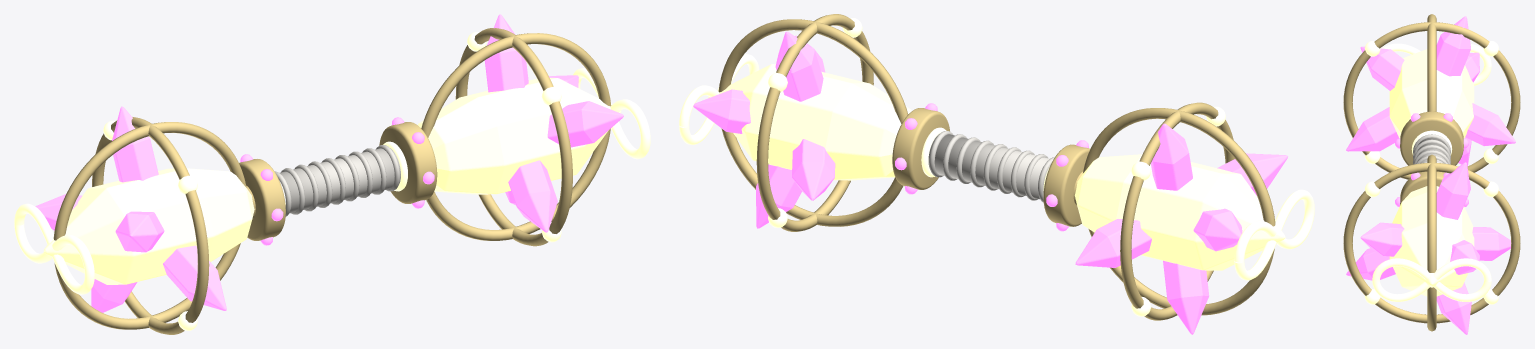
The model's file is dm_infinity25t.glb.
The picture shows the model from 3 angles, left to right: view 1: azimuth 30°, elevation 25°; view 2: azimuth 150°, elevation 25°; view 3: azimuth 270°, elevation 25°; orthographic projection. The views are drawn at different scales.
Visible parts, largest first — view 1: Infinity25t_Prism, Infinity25t_Prism.001, Infinity25t_Cage.003, Infinity25t_Cage.001, Infinity25t_Cage.004, Infinity25t_Cage, Infinity25t_Grip, Infinity25t_Cage.005, Infinity25t_InfinitySymbol, Infinity25t_Cage.002, Infinity25t_Collar.001, Infinity25t_Collar (+9 smaller); view 2: Infinity25t_Prism, Infinity25t_Prism.001, Infinity25t_Cage.004, Infinity25t_Cage.003, Infinity25t_Cage.001, Infinity25t_Cage, Infinity25t_Grip, Infinity25t_InfinitySymbol, Infinity25t_Collar.001, Infinity25t_Collar, Infinity25t_Cage.005, Infinity25t_Stone.002 (+10 smaller); view 3: Infinity25t_Prism.001, Infinity25t_Prism, Infinity25t_Cage.003, Infinity25t_Cage, Infinity25t_InfinitySymbol.001, Infinity25t_Collar, Infinity25t_Stone.004, Infinity25t_Stone.009, Infinity25t_Cage.004, Infinity25t_Stone.003, Infinity25t_Stone.005, Infinity25t_Stone.007 (+26 smaller).
Boxes of the visible parts, box(x1,y1,x2,y2) form: Infinity25t_Prism: box(43, 168, 254, 284); Infinity25t_Prism.001: box(418, 78, 621, 194); Infinity25t_Cage.003: box(455, 28, 572, 246); Infinity25t_Cage.001: box(54, 122, 242, 329); Infinity25t_Cage.004: box(421, 33, 610, 240); Infinity25t_Cage: box(92, 117, 209, 334); Infinity25t_Grip: box(279, 148, 400, 213); Infinity25t_Cage.005: box(421, 33, 611, 240); Infinity25t_InfinitySymbol: box(14, 203, 94, 294); Infinity25t_Cage.002: box(53, 122, 246, 329); Infinity25t_Collar.001: box(379, 122, 437, 203); Infinity25t_Collar: box(239, 159, 285, 240); Infinity25t_Prism: box(1074, 154, 1285, 270); Infinity25t_Prism.001: box(708, 64, 911, 180); Infinity25t_Cage.004: box(718, 19, 907, 226); Infinity25t_Cage.003: box(756, 14, 873, 231); Infinity25t_Cage.001: box(1083, 108, 1275, 314); Infinity25t_Cage: box(1120, 102, 1234, 320); Infinity25t_Grip: box(928, 134, 1049, 199); Infinity25t_InfinitySymbol: box(1234, 189, 1314, 280); Infinity25t_Collar.001: box(892, 108, 949, 189); Infinity25t_Collar: box(1043, 144, 1090, 226); Infinity25t_Cage.005: box(722, 19, 908, 226); Infinity25t_Stone.002: box(1163, 260, 1209, 334); Infinity25t_Prism.001: box(1389, 186, 1474, 296); Infinity25t_Prism: box(1389, 49, 1474, 138); Infinity25t_Cage.003: box(1343, 163, 1520, 323); Infinity25t_Cage: box(1343, 22, 1520, 179); Infinity25t_InfinitySymbol.001: box(1372, 258, 1491, 301); Infinity25t_Collar: box(1400, 111, 1463, 165); Infinity25t_Stone.004: box(1346, 107, 1398, 151); Infinity25t_Stone.009: box(1436, 162, 1470, 219); Infinity25t_Cage.004: box(1427, 155, 1436, 331); Infinity25t_Stone.003: box(1436, 16, 1470, 76); Infinity25t_Stone.005: box(1465, 103, 1515, 146); Infinity25t_Stone.007: box(1360, 222, 1404, 256).
Size of the model in its own units: 7.35 by 2.51 by 2.46.
